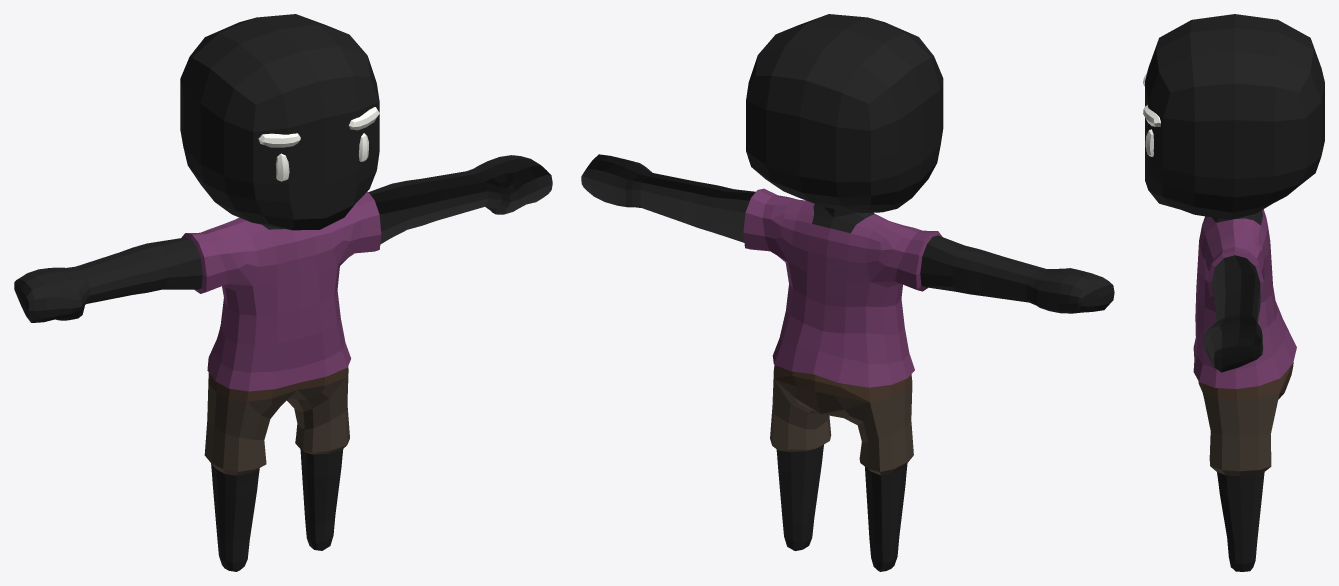
Rendered from Casual_Bald.fbx.
3 renders of one model, left to right at view 1: azimuth 30°, elevation 25°; view 2: azimuth 150°, elevation 25°; view 3: azimuth 270°, elevation 25°, orthographic. The views are drawn at different scales.
Parts seen in each view (by area): view 1: Body; view 2: Body; view 3: Body.
Boxes of the visible parts, x1,y1,x2,y2 form: Body: (14, 14, 552, 571); Body: (581, 14, 1114, 571); Body: (1143, 14, 1324, 571).
Bounding box in the file's own units: 324 × 315 × 99.31.
